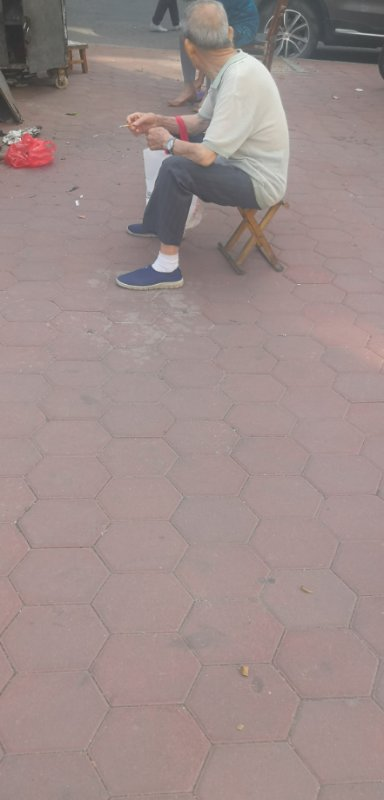smoke: (117, 123, 133, 131)
